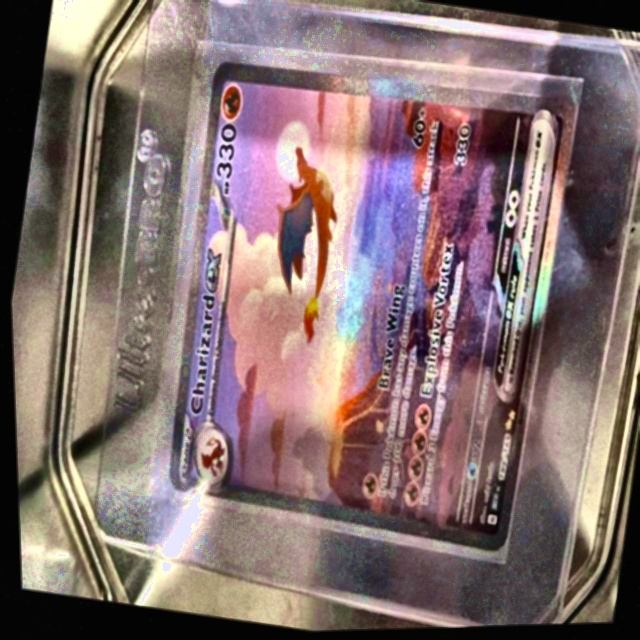card: (163, 60, 573, 556)
